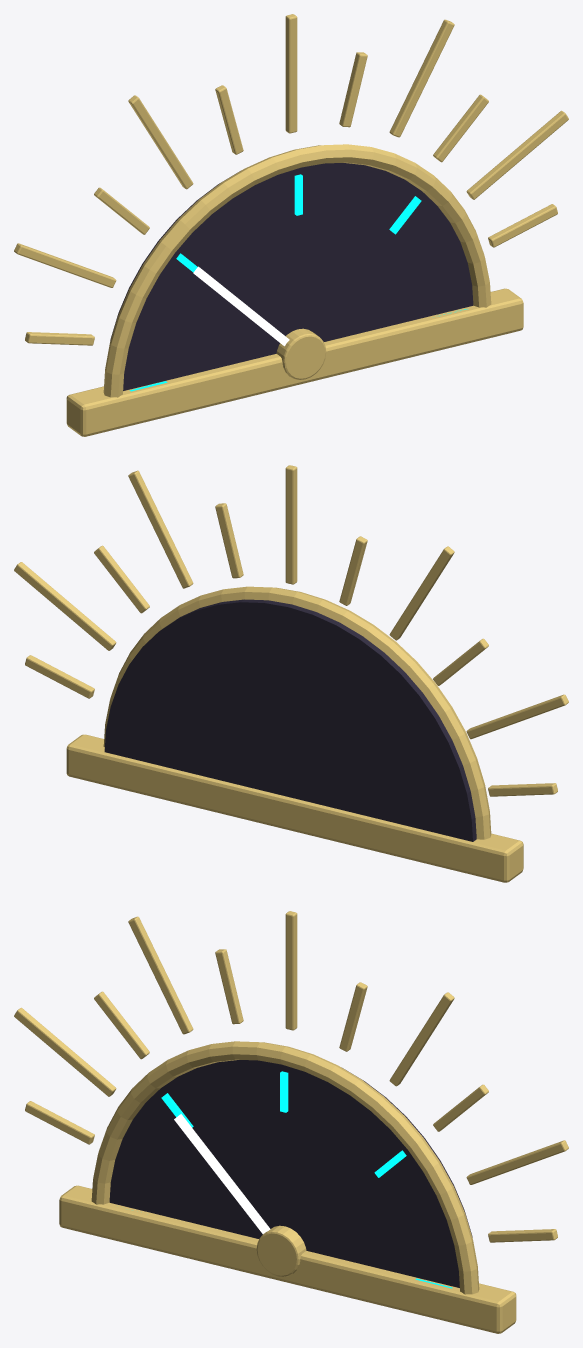
File: DecoDial.fbx
3 renders of one model, top to bottom at view 1: azimuth 30°, elevation 25°; view 2: azimuth 150°, elevation 25°; view 3: azimuth 330°, elevation 25°, orthographic.
Parts seen in each view (by area): view 1: DecoDial; view 2: DecoDial; view 3: DecoDial.
Boxes of the visible parts, left/top/right/bottom form: DecoDial: left=14, top=14, right=568, bottom=436; DecoDial: left=14, top=465, right=568, bottom=882; DecoDial: left=14, top=911, right=568, bottom=1333.
Size of the model in its own units: 8.97 by 5.6 by 0.55.
